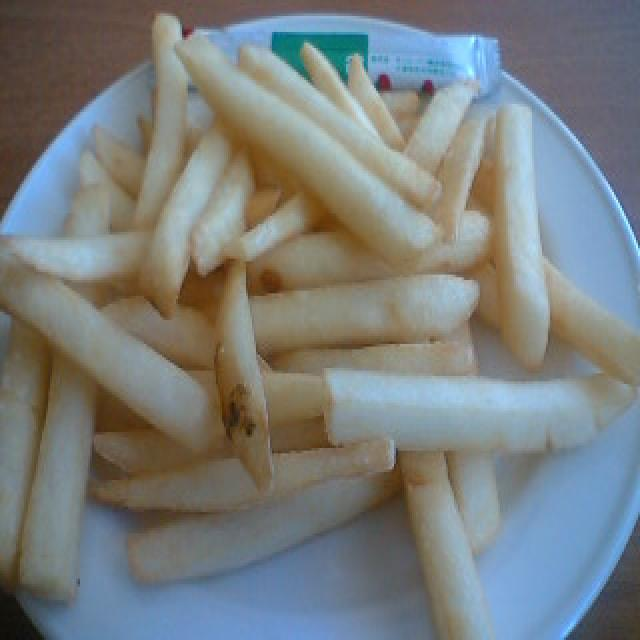French Fries: (28, 72, 595, 582)
